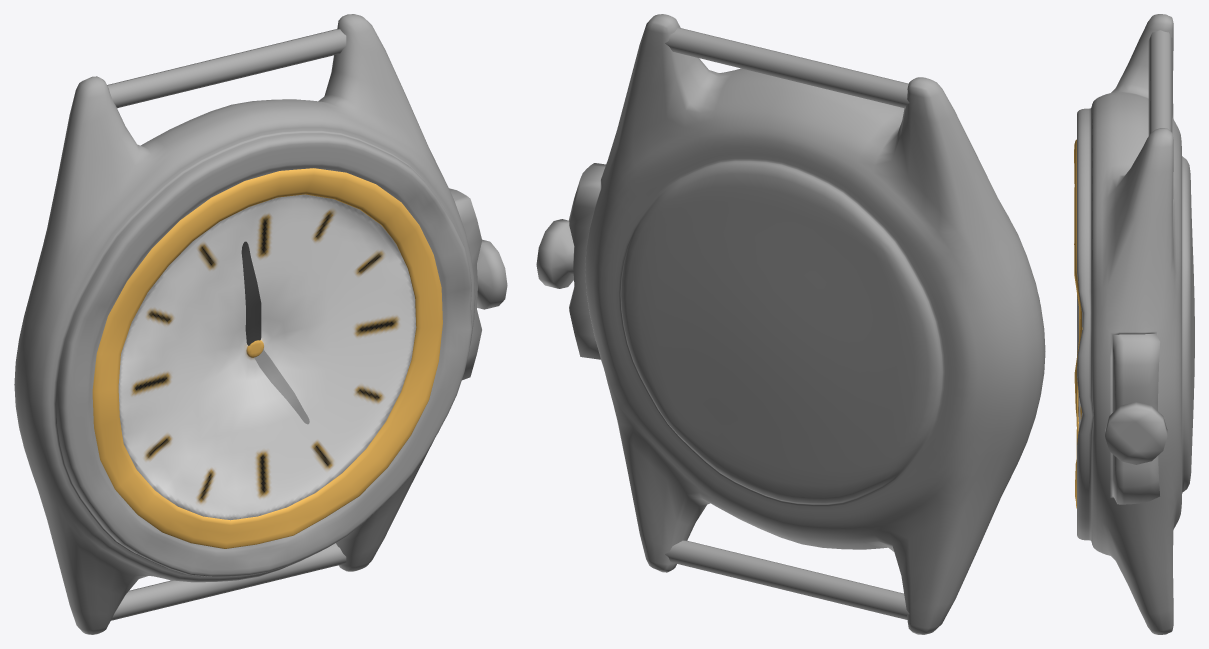
File: Watch_Broken1.fbx
The picture shows the model from 3 angles, left to right: view 1: azimuth 30°, elevation 25°; view 2: azimuth 150°, elevation 25°; view 3: azimuth 270°, elevation 25°; orthographic projection. The views are drawn at different scales.
Parts seen in each view (by area): view 1: Face_OuterRing.008; view 2: Face_OuterRing.008; view 3: Face_OuterRing.008.
Boxes of the visible parts, x1,y1,x2,y2 form: Face_OuterRing.008: (14,14,507,634); Face_OuterRing.008: (536,14,1045,634); Face_OuterRing.008: (1074,14,1194,634).
Bounding box in the file's own units: 604 × 147 × 673.
